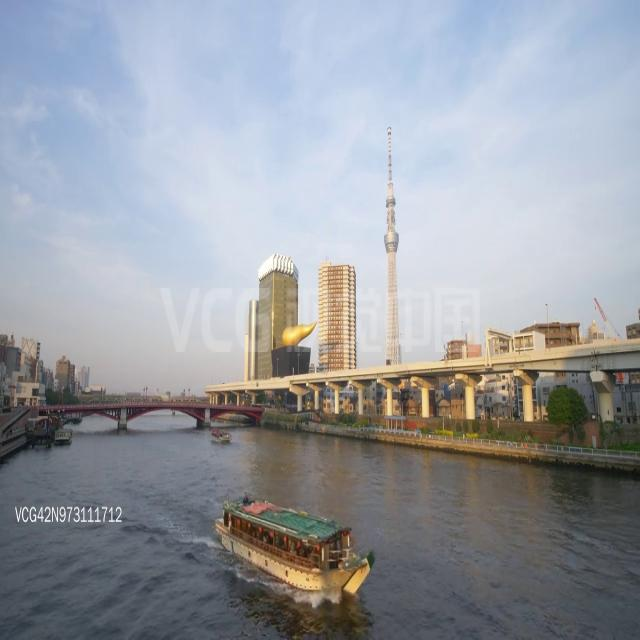passenger ship: (215, 490, 377, 603), (55, 421, 75, 447), (210, 426, 233, 448)
